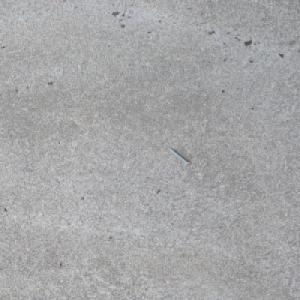Screw: (167, 147, 191, 165)
